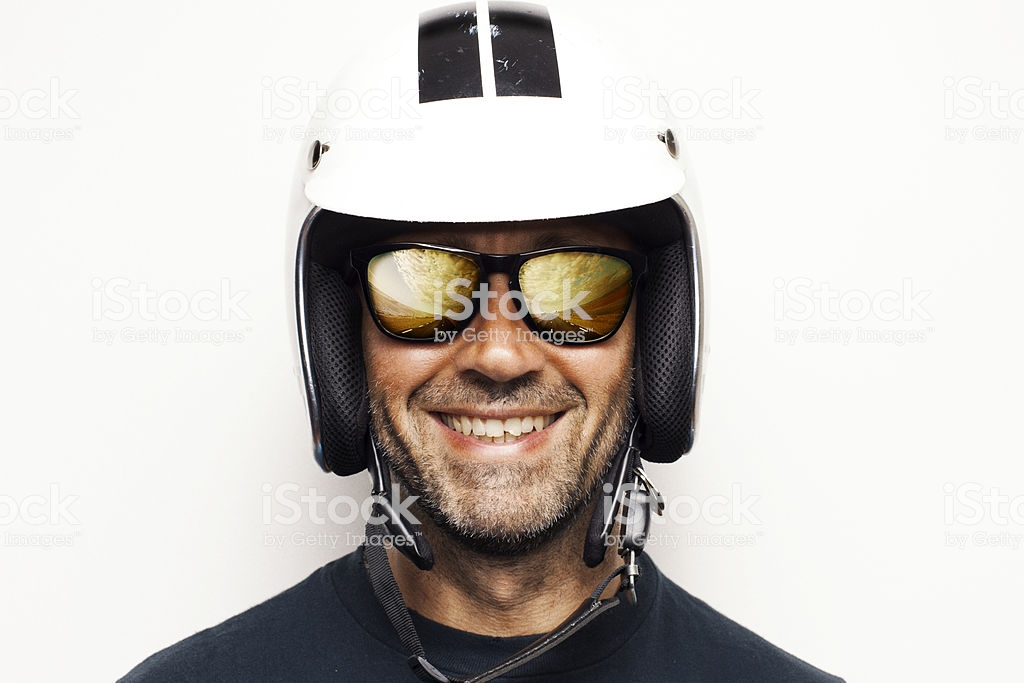helmet: (273, 5, 723, 451)
